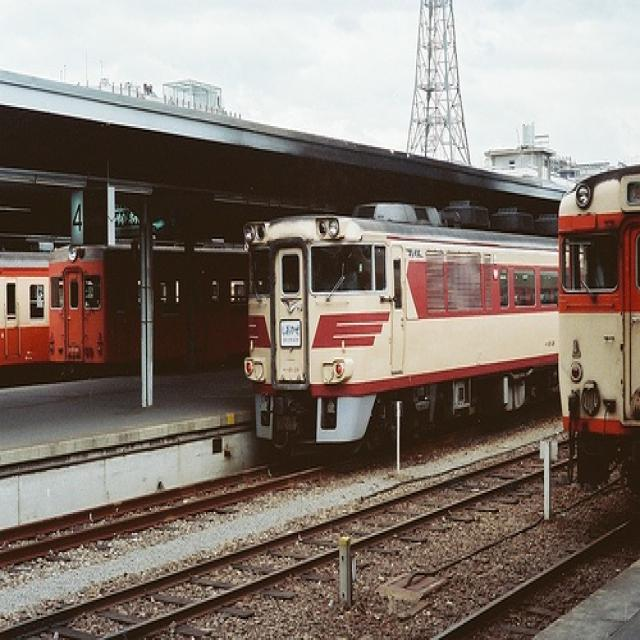train: (242, 192, 563, 448), (51, 238, 254, 387), (554, 152, 640, 488)
